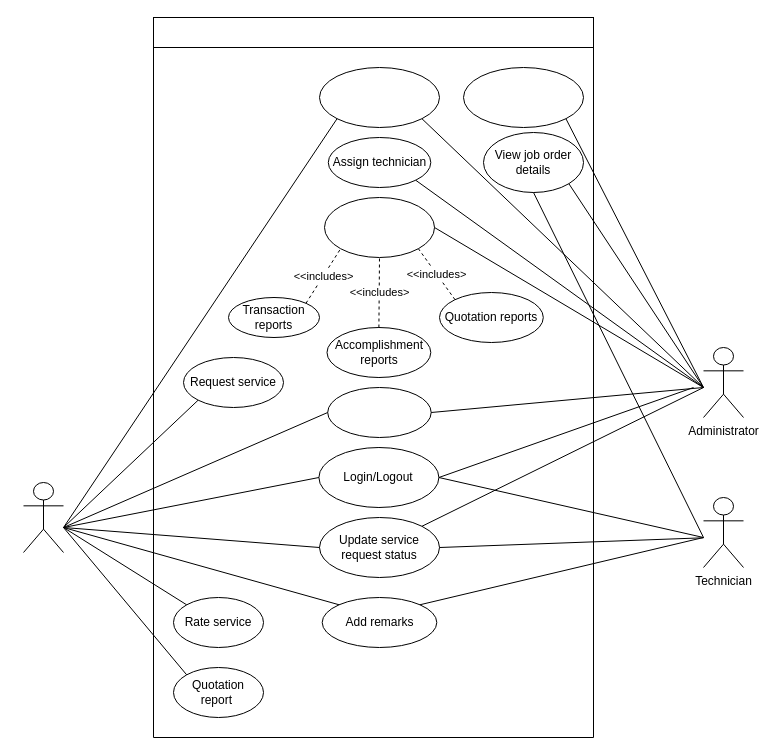
Image size: 776x755. Some labels were removed from this diagram. The shapes that lost their labels are listed below. From the top down, each one's centre as x and y in pixels, then its label:
At point 373,32: "Job Order Management System".
At point 379,97: "Create account".
At point 523,97: "Manage job orders".
At point 379,227: "Generate reports".
At point 379,412: "Track status".
At point 43,517: "Customer".
